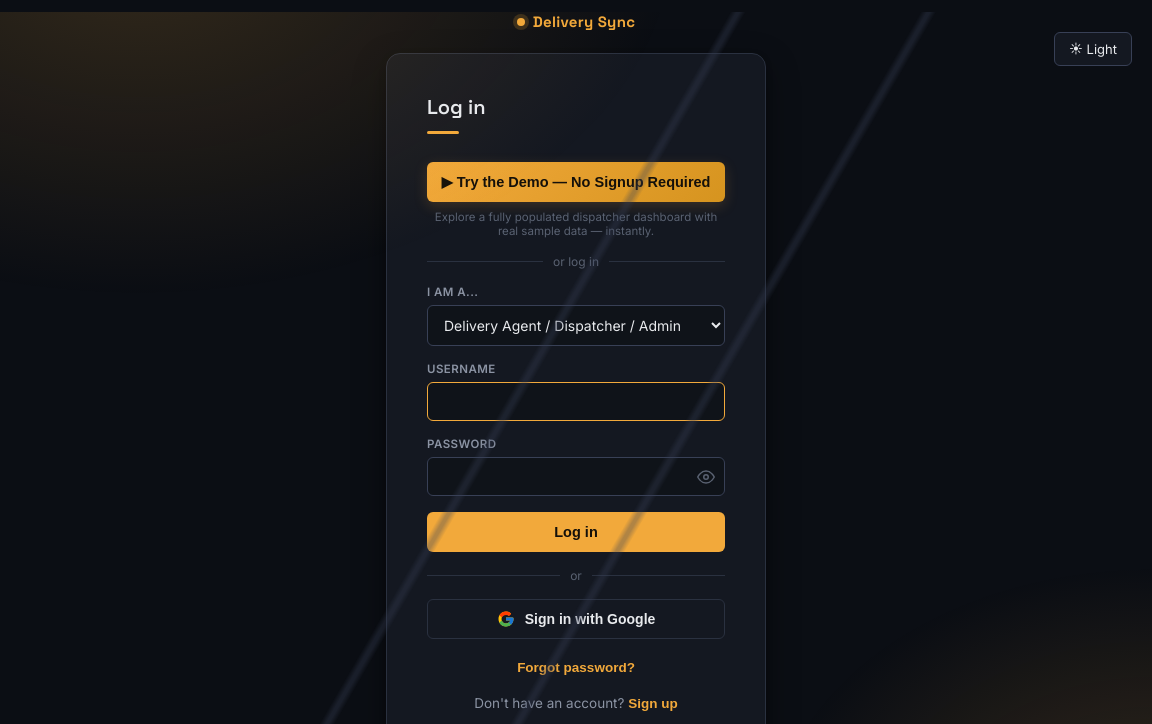
Test: LoginPage › shows the backend's error message when login fails
In the field labelled "Username": (576, 402) [427,382,725,421], type "dispatcher1"
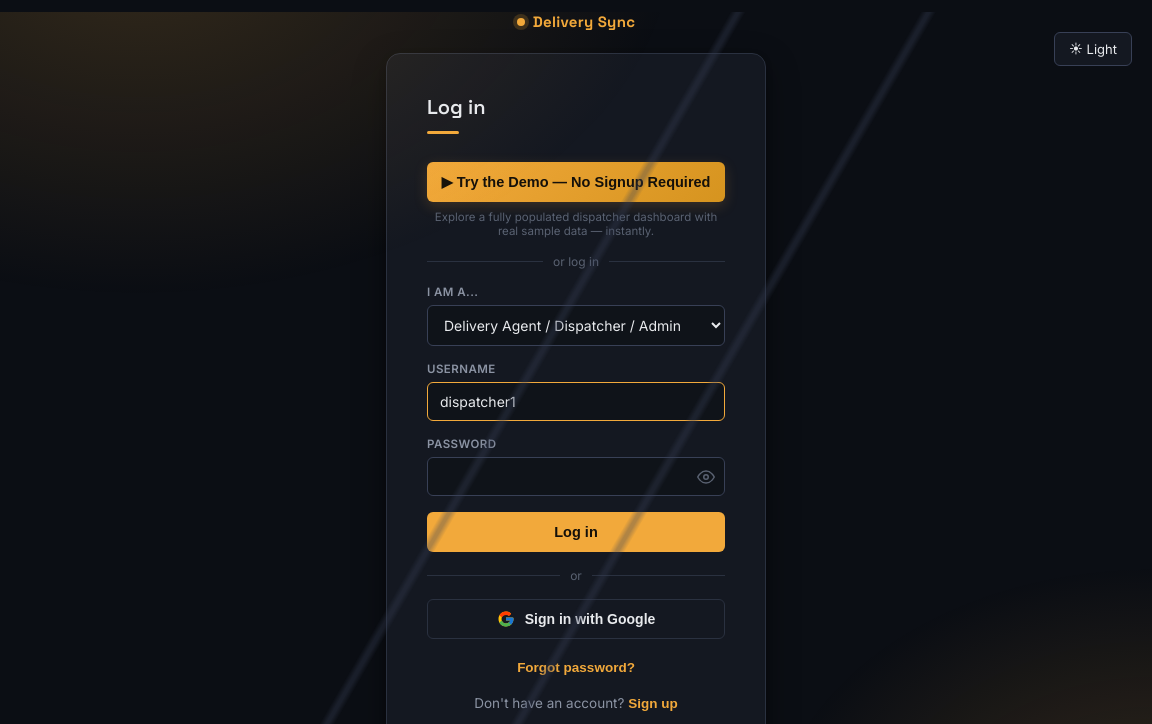
In the password field labelled "Password": (576, 476) [427,457,725,496], type "wrong-password"
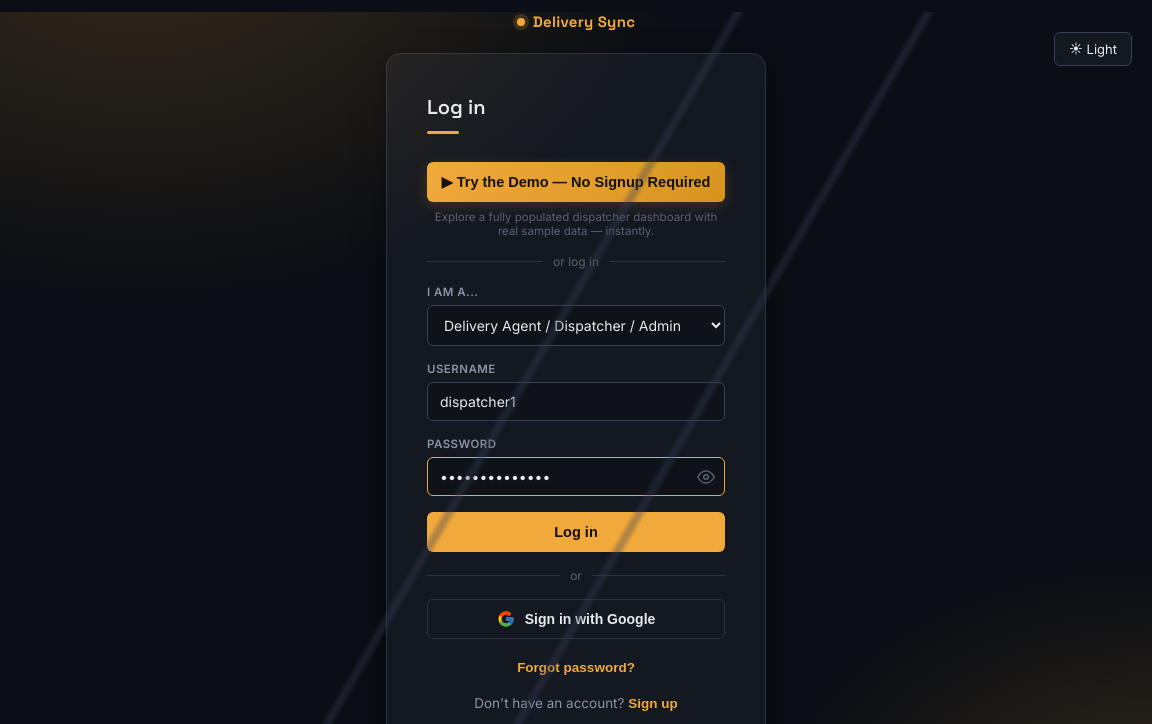
Click the button "Log in": (576, 532) [427,512,725,552]
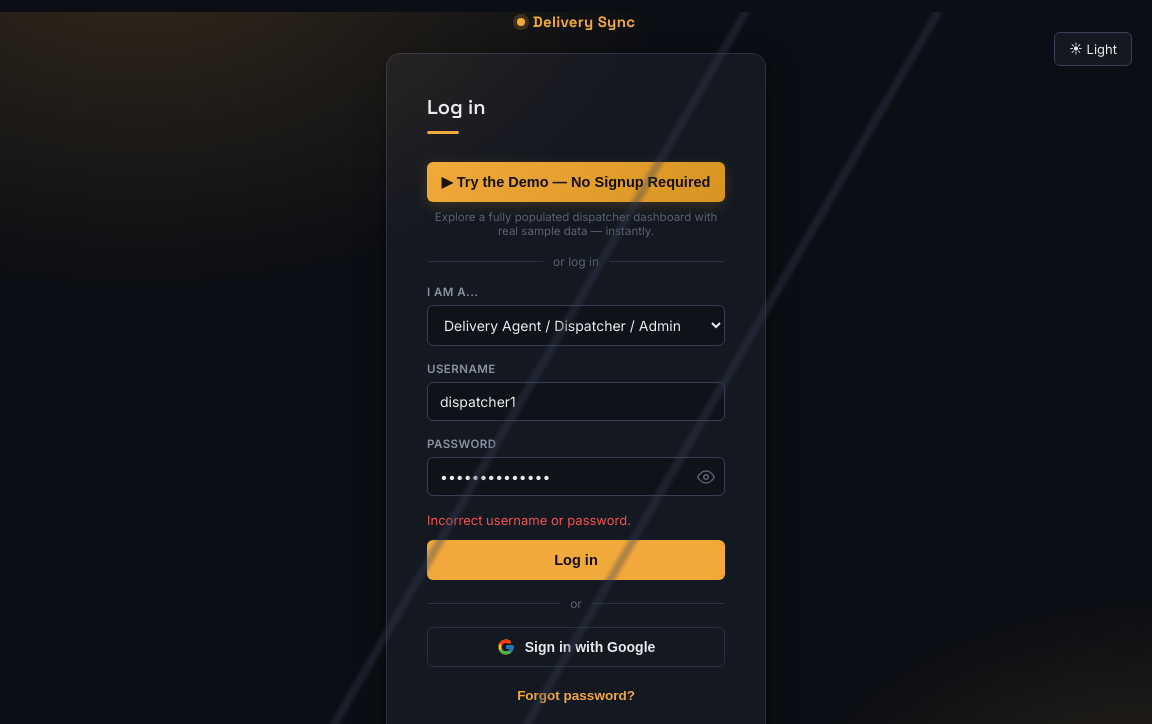
Result: the text "Incorrect username or password." is shown at [427,512,631,528]
